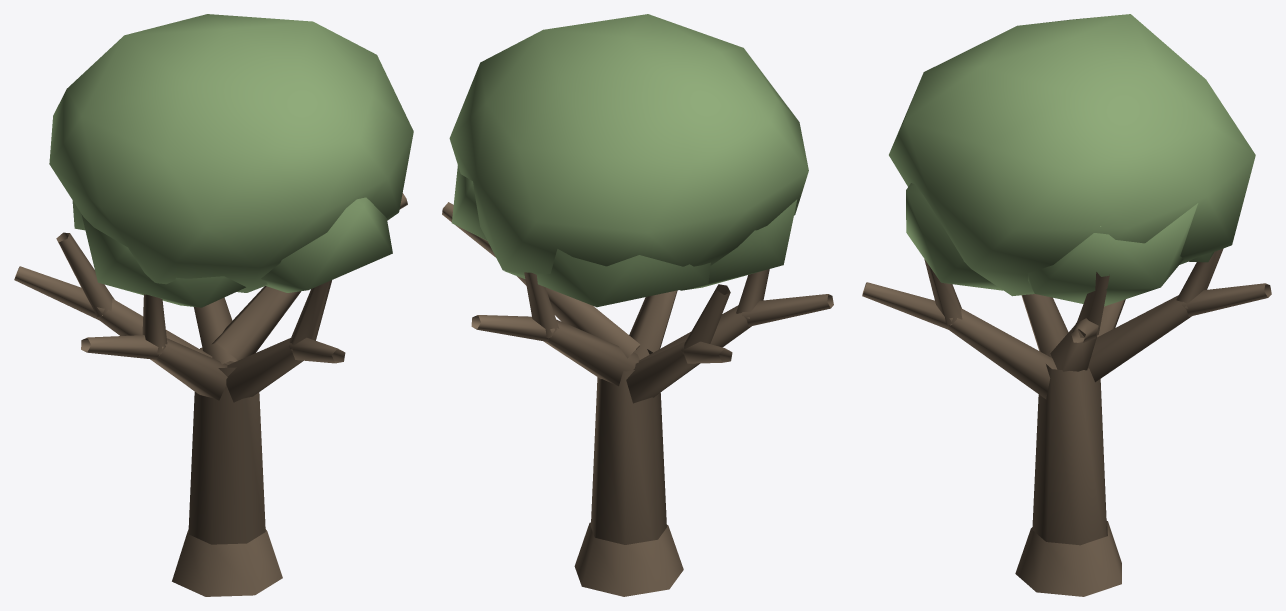
The model's file is oak.glb.
3 renders of one model, left to right at view 1: azimuth 30°, elevation 25°; view 2: azimuth 150°, elevation 25°; view 3: azimuth 270°, elevation 25°, orthographic.
Parts seen in each view (by area): view 1: Leaves, Trunk; view 2: Leaves, Trunk; view 3: Leaves, Trunk.
Part boxes in pixels (left/top/right/bottom): Leaves: left=49, top=14, right=413, bottom=307; Trunk: left=14, top=193, right=407, bottom=596; Leaves: left=449, top=14, right=808, bottom=307; Trunk: left=442, top=202, right=833, bottom=596; Leaves: left=889, top=14, right=1255, bottom=306; Trunk: left=862, top=248, right=1271, bottom=596.
Size of the model in its own units: 0.6531 by 0.9465 by 0.6563.
